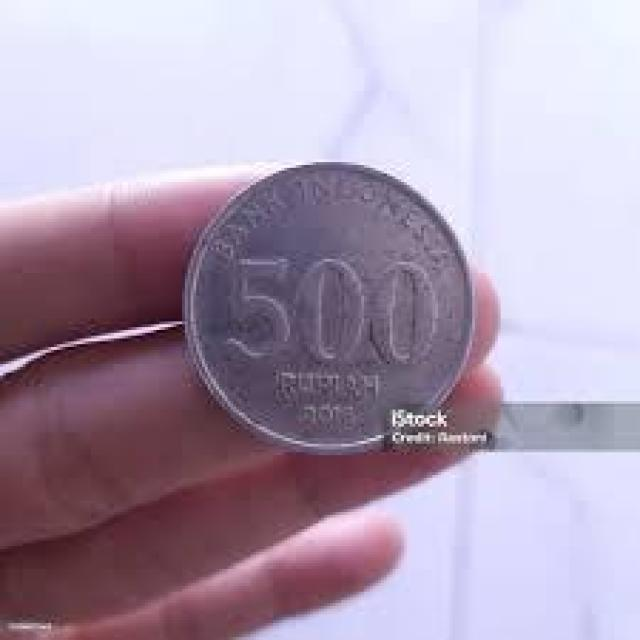500-silver: (175, 154, 477, 454)
